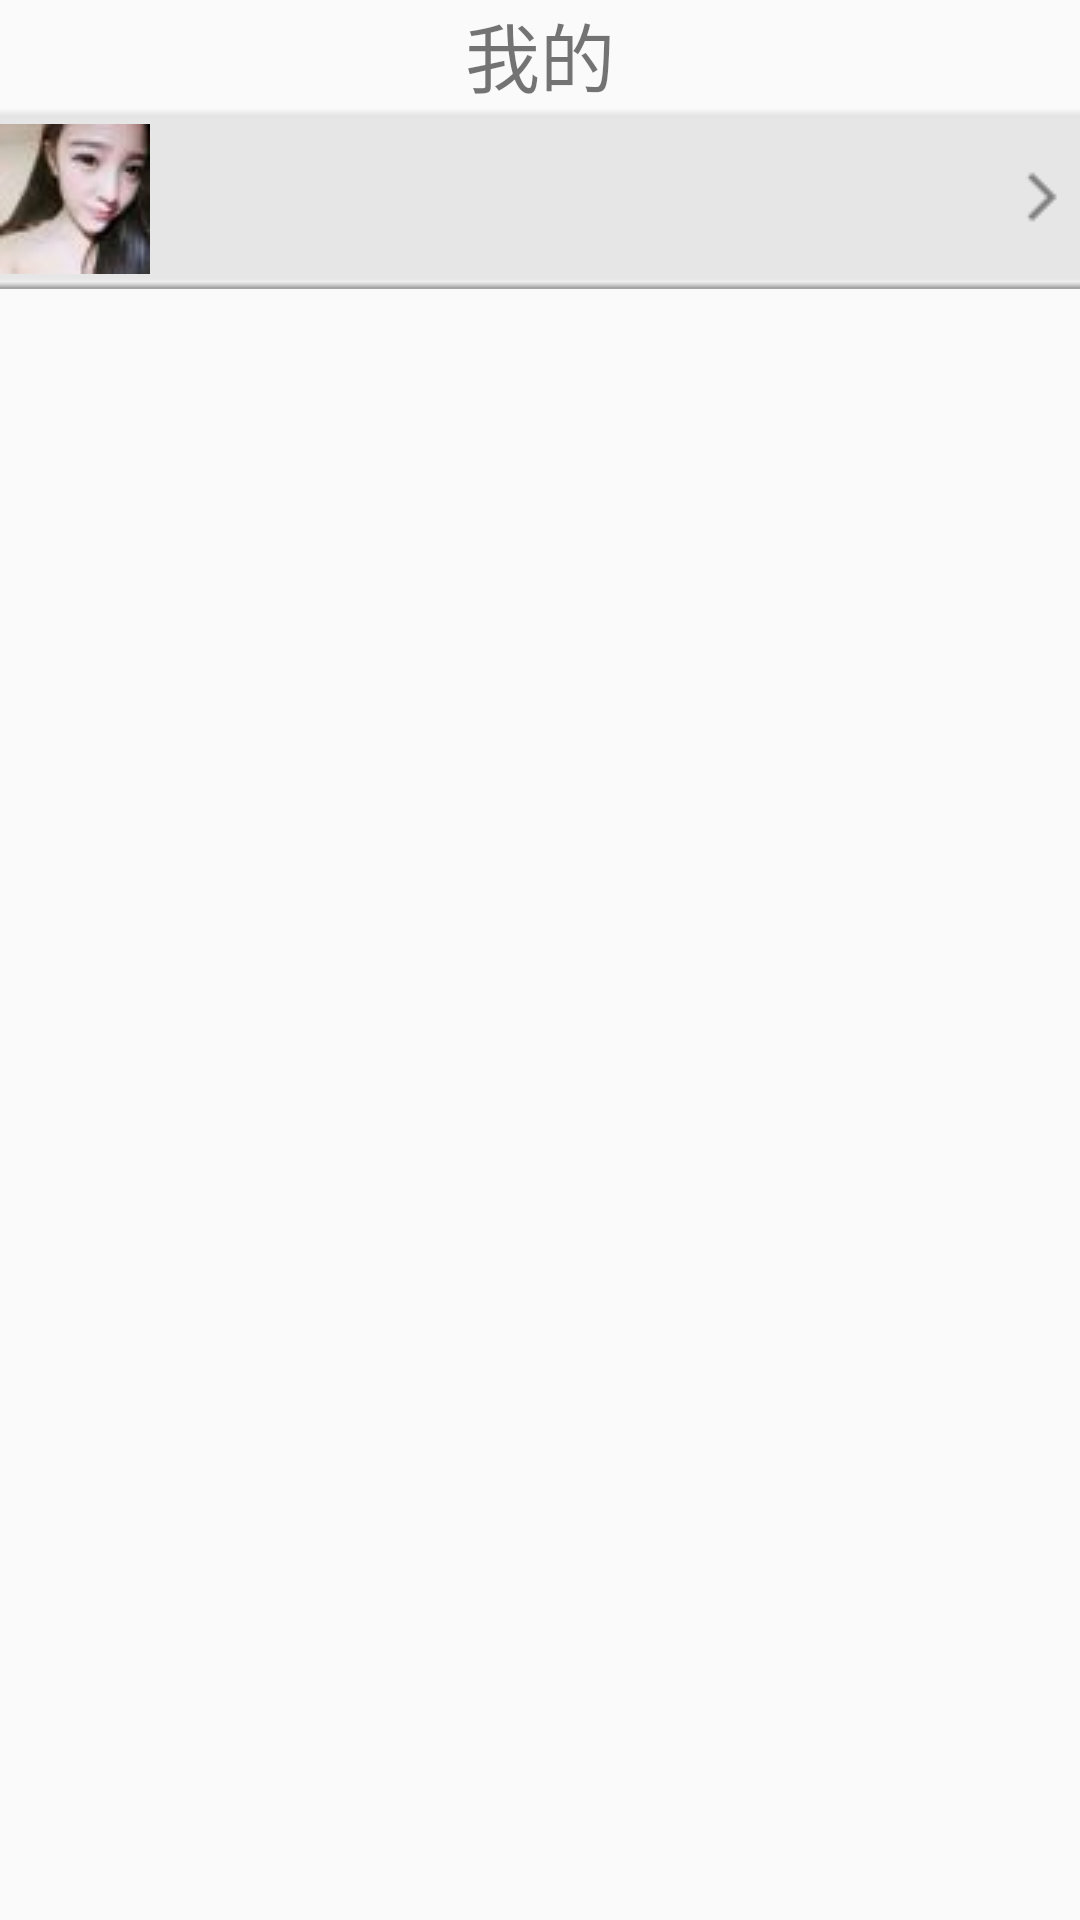

Where icons sit on this 1080 × 1920 app screen, as (x1, y1, x2, y2):
right arrow: (1028, 173, 1056, 221)
